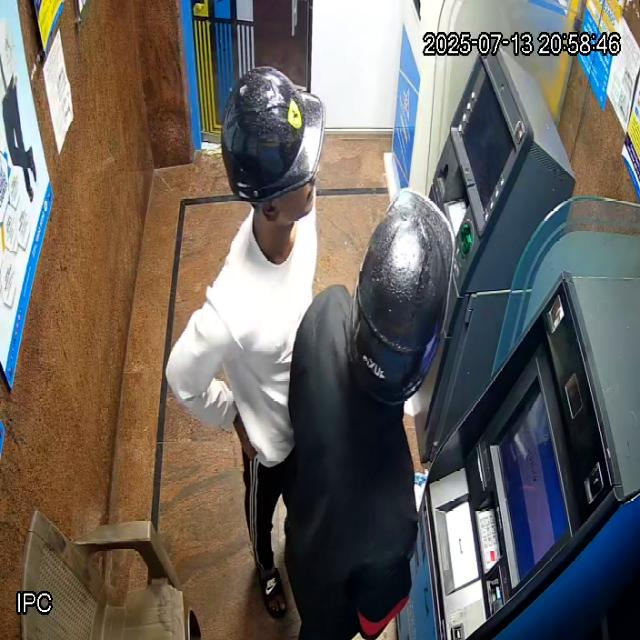helmet: (348, 187, 456, 404), (220, 66, 326, 262)
